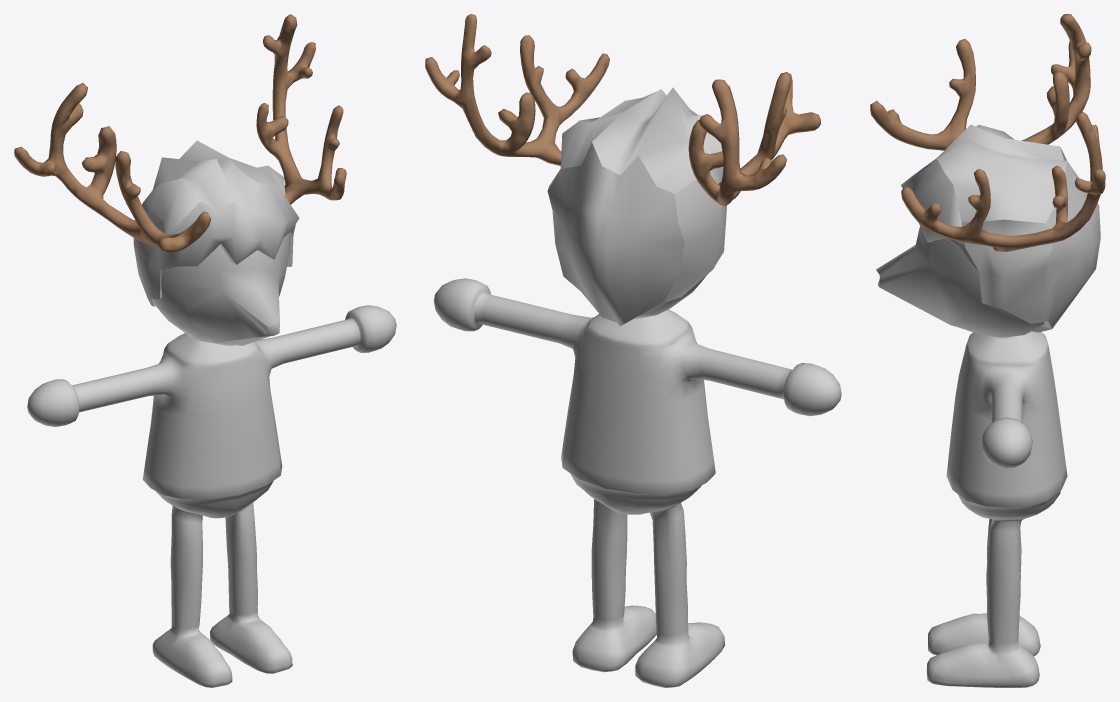
The model's file is mooseywholesize.obj.
3 views of the same model, side by side, from view 1: azimuth 30°, elevation 25°; view 2: azimuth 150°, elevation 25°; view 3: azimuth 270°, elevation 25° (orthographic). The views are drawn at different scales.
Visible parts, largest first — view 1: Mii.002; view 2: Mii.002; view 3: Mii.002.
Part boxes in pixels (bbox=[...]): Mii.002: bbox=[14, 14, 396, 687]; Mii.002: bbox=[425, 14, 841, 687]; Mii.002: bbox=[870, 14, 1105, 687].
Bounding box in the file's own units: 2.25 × 3.47 × 1.21.
